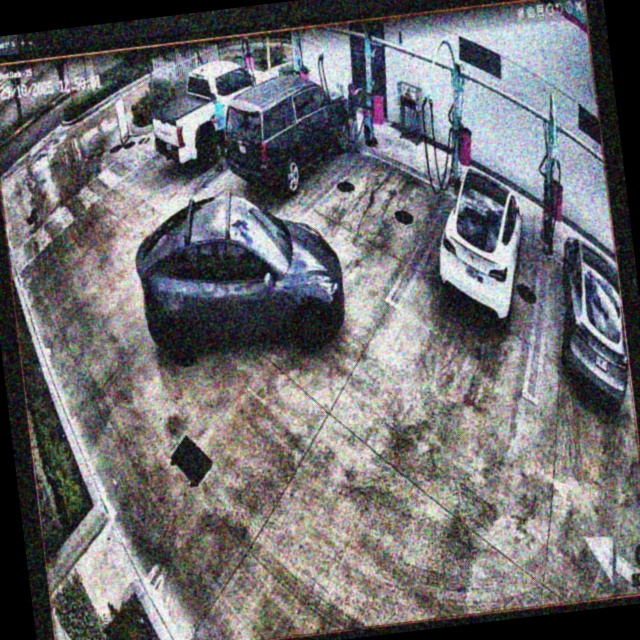Car: (129, 183, 350, 370), (428, 160, 536, 326), (221, 69, 358, 198), (147, 60, 283, 175)
